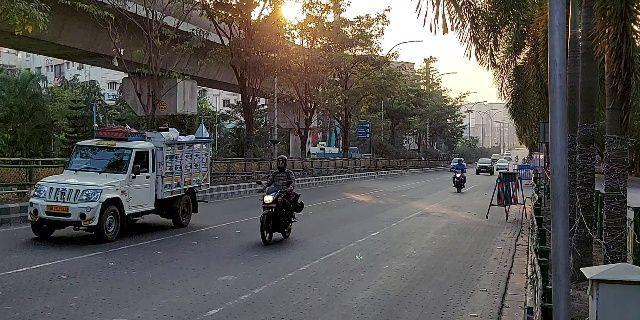Car: (475, 152, 495, 178)
Minitruck: (25, 122, 213, 244)
Motorbike: (249, 153, 304, 249), (449, 155, 468, 197)
